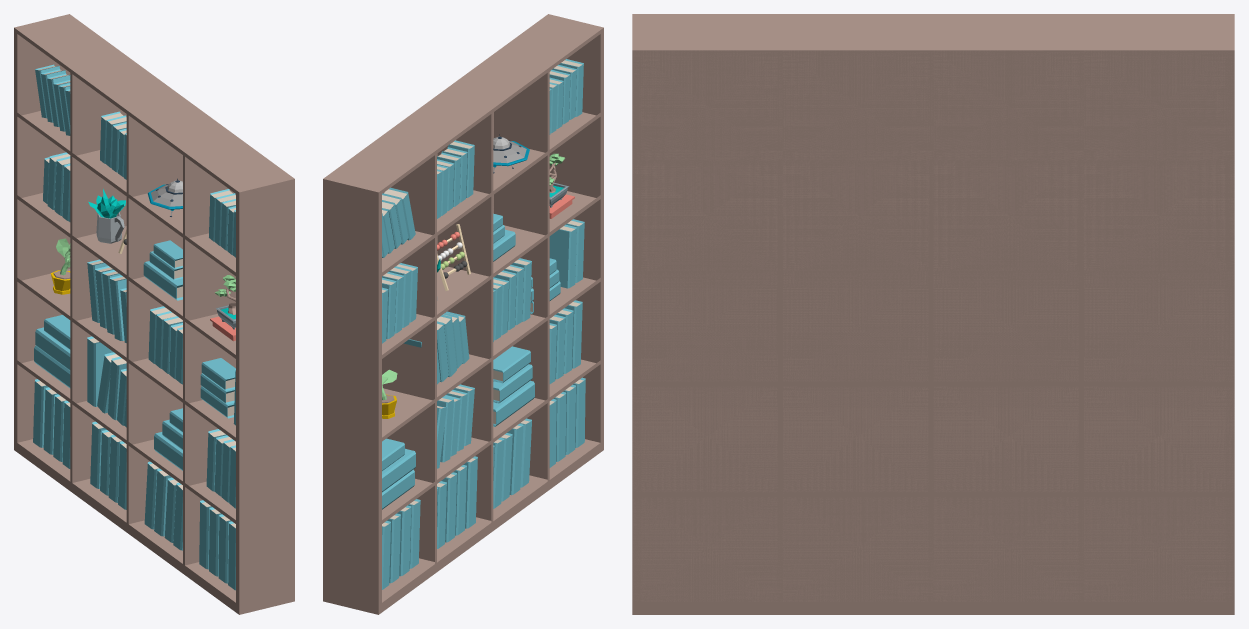
Rendered from bookcase.gltf.
The picture shows the model from 3 angles, left to right: view 1: azimuth 30°, elevation 25°; view 2: azimuth 150°, elevation 25°; view 3: azimuth 270°, elevation 25°; orthographic projection. The views are drawn at different scales.
Parts seen in each view (by area): view 1: bookcase_structure.001, shelf_plant.001, book.1.1.0, bonsai.001, flying_saucer.001, book.3.2.2, book.0.1.1, book.2.3.0, book.0.0.0, book.2.0.1, shelf_plant_2.001, book.1.2.3 (+46 smaller); view 2: bookcase_structure.001, book.3.2.3, book.2.1.2, abbicus.001, book.2.1.0, bonsai.001, flying_saucer.001, book.1.0.4, book.2.0.3, book.2.1.1, book.0.1.1, book.0.0.3 (+48 smaller); view 3: bookcase_structure.001.
Boxes of the visible parts, x1=… form: bookcase_structure.001: x1=14, y1=14, x2=294, y2=614; shelf_plant.001: x1=88, y1=189, x2=125, y2=243; book.1.1.0: x1=87, y1=336, x2=113, y2=406; bonsai.001: x1=210, y1=275, x2=235, y2=341; flying_saucer.001: x1=147, y1=178, x2=182, y2=216; book.3.2.2: x1=201, y1=358, x2=235, y2=390; book.0.1.1: x1=35, y1=327, x2=70, y2=370; book.2.3.0: x1=143, y1=261, x2=182, y2=300; book.0.0.0: x1=33, y1=379, x2=48, y2=447; book.2.0.1: x1=154, y1=468, x2=171, y2=536; shelf_plant_2.001: x1=50, y1=238, x2=70, y2=294; book.1.2.3: x1=109, y1=275, x2=126, y2=340; bookcase_structure.001: x1=323, y1=14, x2=603, y2=614; book.3.2.3: x1=549, y1=224, x2=576, y2=288; book.2.1.2: x1=493, y1=346, x2=530, y2=383; abbicus.001: x1=437, y1=224, x2=470, y2=290; book.2.1.0: x1=493, y1=380, x2=534, y2=426; bonsai.001: x1=549, y1=153, x2=574, y2=218; flying_saucer.001: x1=493, y1=134, x2=529, y2=173; book.1.0.4: x1=463, y1=456, x2=477, y2=528; book.2.0.3: x1=507, y1=423, x2=523, y2=495; book.2.1.1: x1=493, y1=364, x2=532, y2=403; book.0.1.1: x1=382, y1=448, x2=415, y2=492; book.0.0.3: x1=397, y1=505, x2=411, y2=576; bookcase_structure.001: x1=632, y1=14, x2=1234, y2=614.
Bounding box in the file's own units: 3.03 × 19.82 × 19.15.
